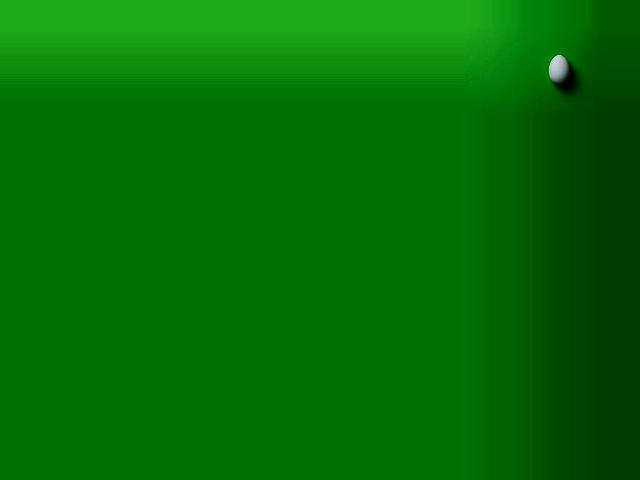egg: (548, 55, 570, 85)
